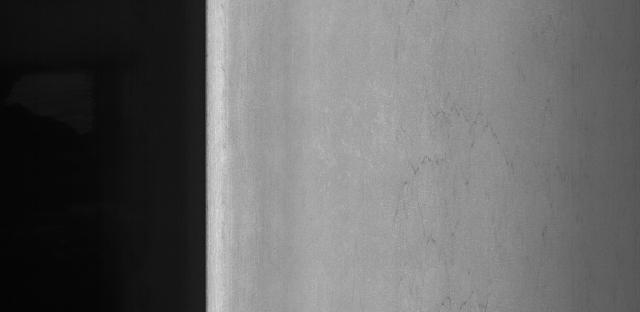silk_spot: (390, 56, 525, 298)
